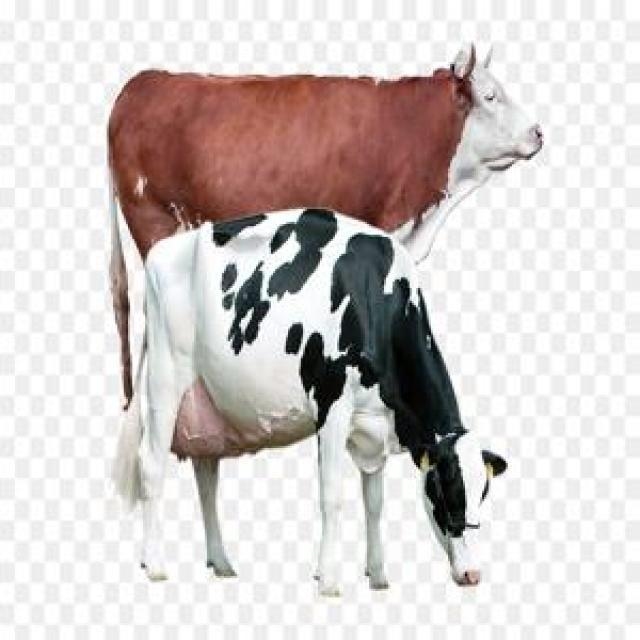cow: (109, 49, 542, 403), (118, 210, 505, 594)
